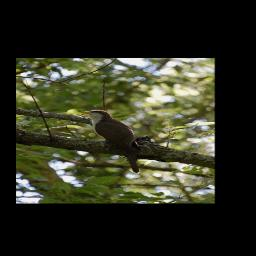Cuckoo: (77, 109, 144, 175)
